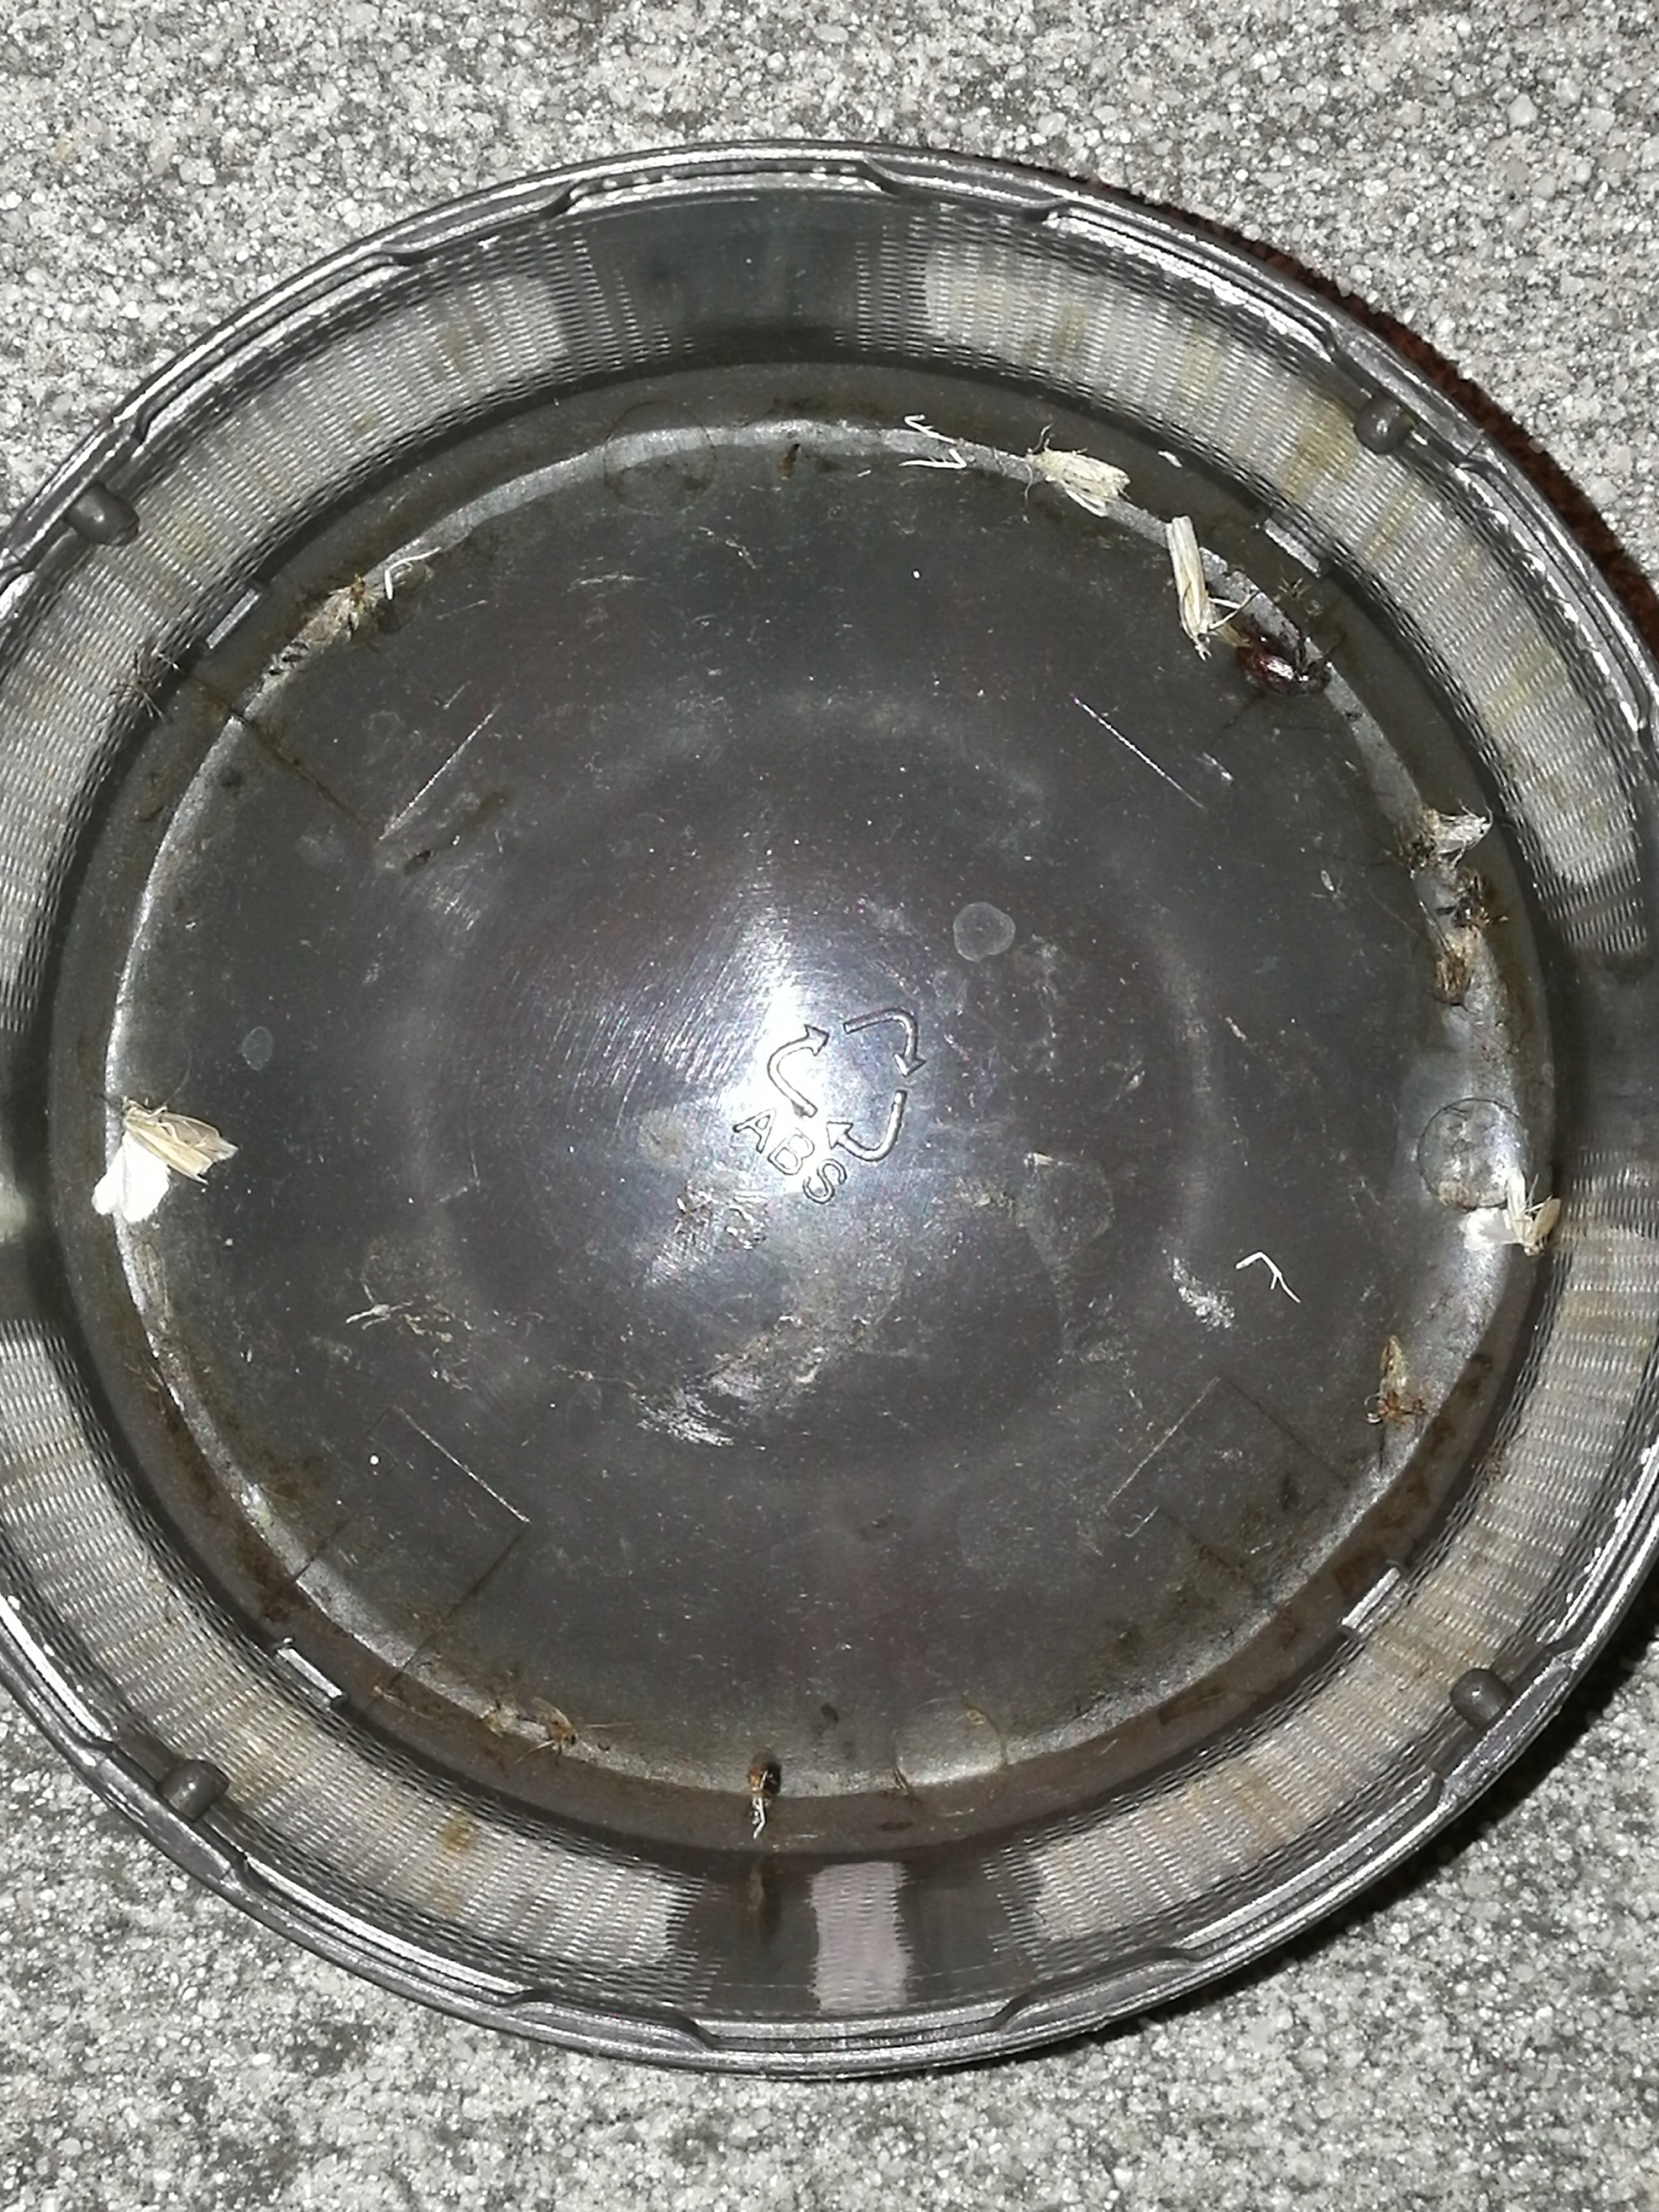beetle: (1237, 637, 1330, 695)
mosquito: (1166, 516, 1209, 658)
moth: (122, 1096, 237, 1186), (1460, 1172, 1561, 1256), (92, 1132, 171, 1223), (1025, 451, 1131, 517)
